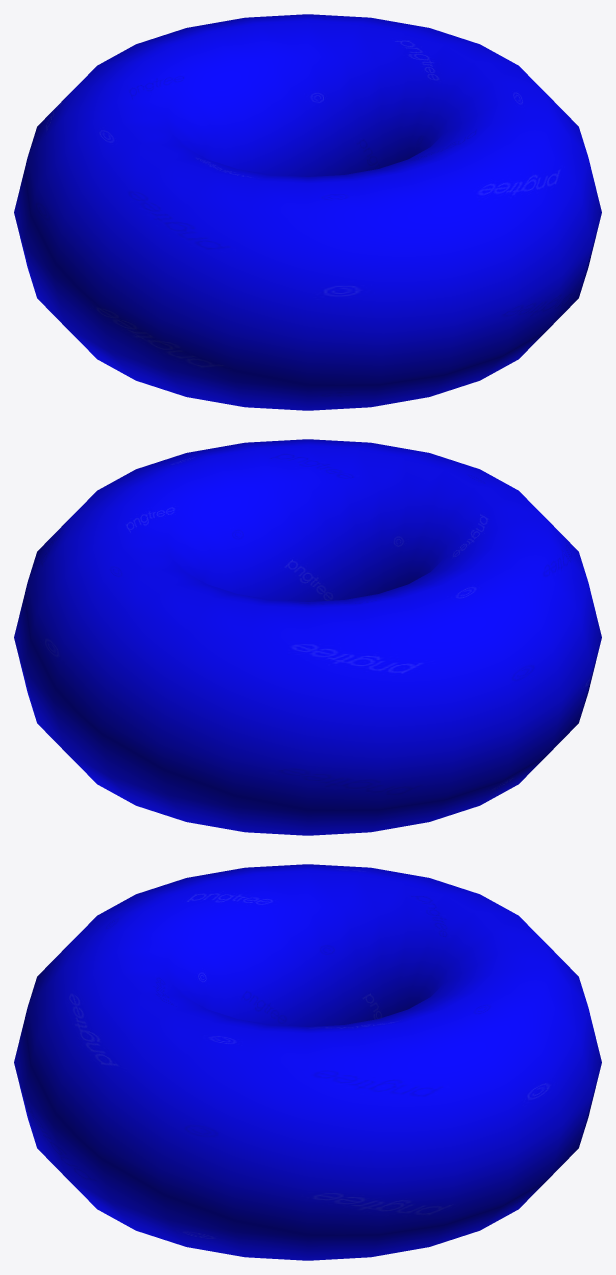
The model's file is toroidetres.obj.
3 renders of one model, top to bottom at view 1: azimuth 30°, elevation 25°; view 2: azimuth 150°, elevation 25°; view 3: azimuth 270°, elevation 25°, orthographic.
Visible parts, largest first — view 1: Torus003; view 2: Torus003; view 3: Torus003.
Boxes of the visible parts, <box> form: Torus003: <box>14,14,601,410</box>; Torus003: <box>14,439,601,835</box>; Torus003: <box>14,864,601,1260</box>.
Size of the model in its own units: 3.4 by 1.41 by 3.4.
